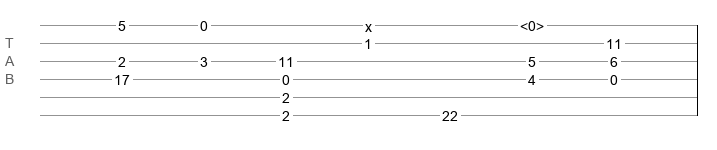0: (200, 18, 208, 28), (282, 72, 290, 82), (610, 72, 618, 82)
1: (364, 36, 372, 46)
11: (278, 54, 294, 64), (606, 36, 622, 46)
17: (114, 72, 130, 82)
2: (118, 54, 126, 64), (282, 90, 290, 100), (282, 108, 290, 118)
22: (442, 108, 458, 118)
3: (200, 54, 208, 64)
4: (528, 72, 536, 82)
5: (118, 18, 126, 28), (528, 54, 536, 64)
6: (610, 54, 618, 64)
harmonic: (520, 18, 544, 28)
x: (365, 19, 372, 27)
